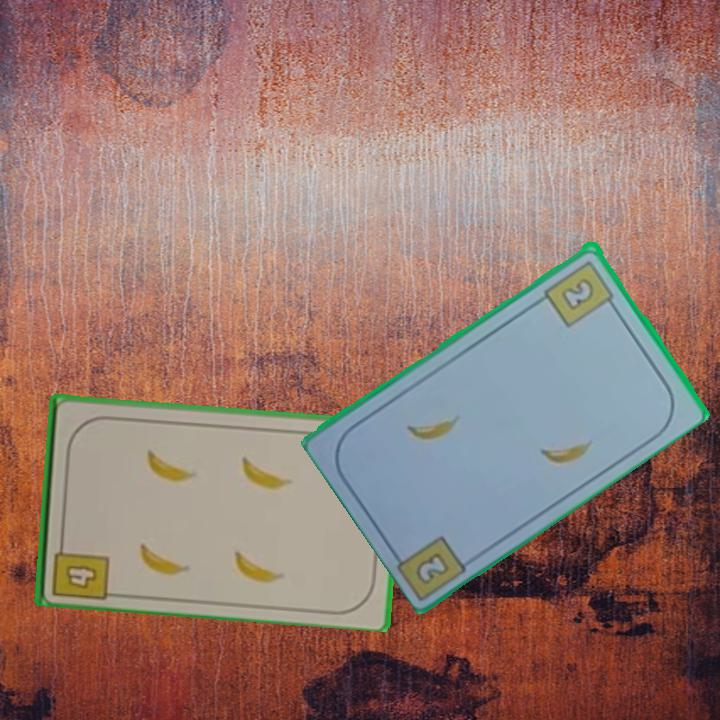2b: (541, 256, 620, 330), (412, 547, 453, 587)
4b: (48, 534, 111, 602)
